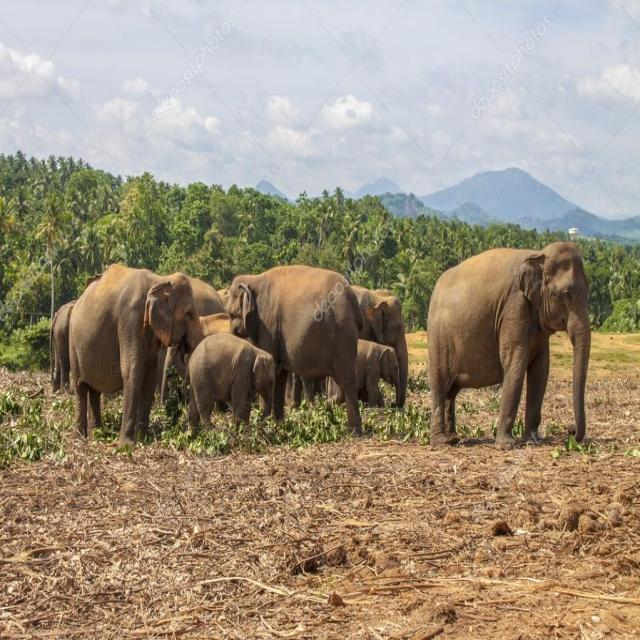Elephant: (427, 223, 598, 464), (68, 250, 196, 464), (227, 260, 370, 437), (188, 325, 280, 428), (364, 276, 410, 446), (347, 331, 407, 417)
